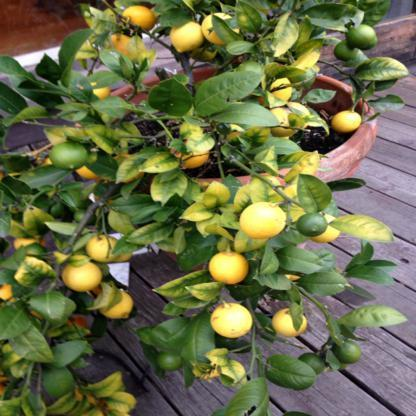lemon: (239, 200, 287, 238), (209, 301, 253, 339), (208, 250, 249, 285), (62, 260, 102, 292), (202, 12, 240, 45), (169, 19, 204, 53), (272, 307, 308, 338), (99, 288, 133, 320), (42, 366, 74, 400), (50, 142, 88, 170), (84, 233, 119, 262), (269, 106, 301, 137), (173, 142, 210, 168), (310, 212, 340, 244), (121, 4, 156, 31), (346, 23, 377, 50), (296, 212, 327, 238), (332, 338, 362, 364), (332, 110, 362, 133), (298, 352, 326, 376), (333, 40, 363, 62), (156, 348, 182, 372), (110, 32, 131, 58), (270, 78, 292, 102), (89, 80, 110, 100), (74, 208, 96, 226), (75, 164, 98, 180), (50, 202, 70, 220)
